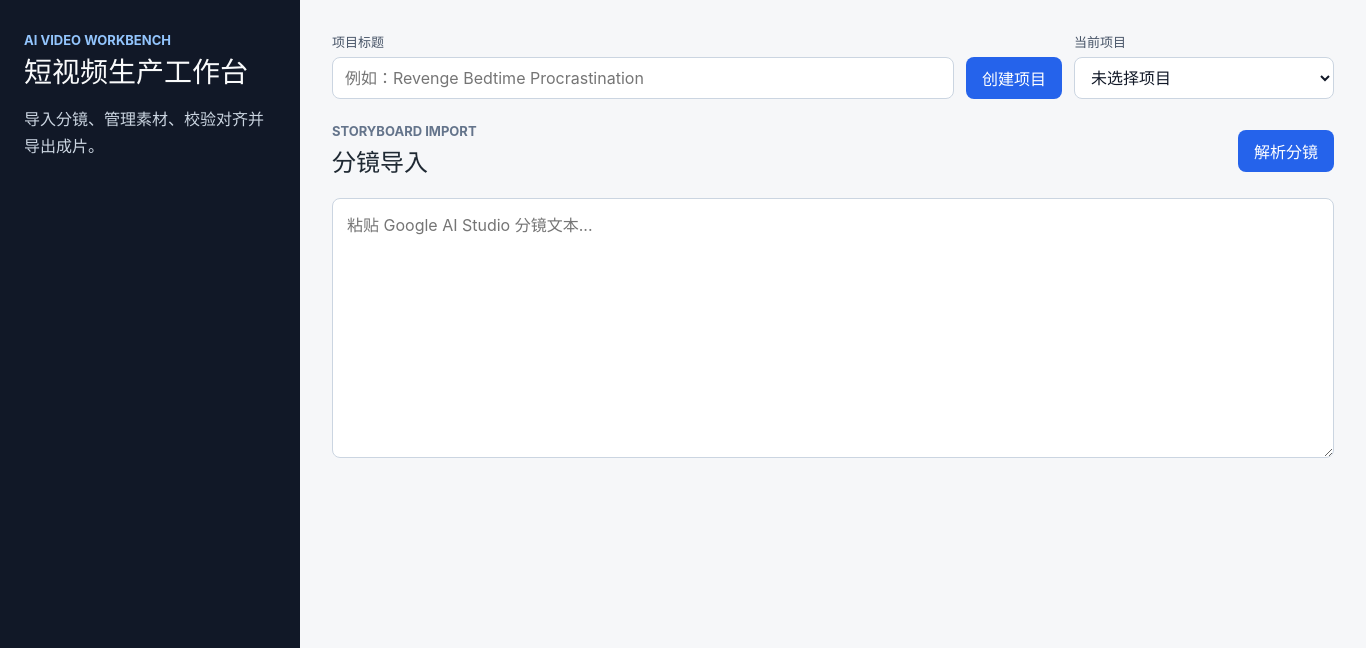
Scenario: VideoWorkbench › shows project assets in the asset library
Select "Asset Project" in the dropdown labelled "当前项目" at [1204, 78], box [1074,57,1334,99]
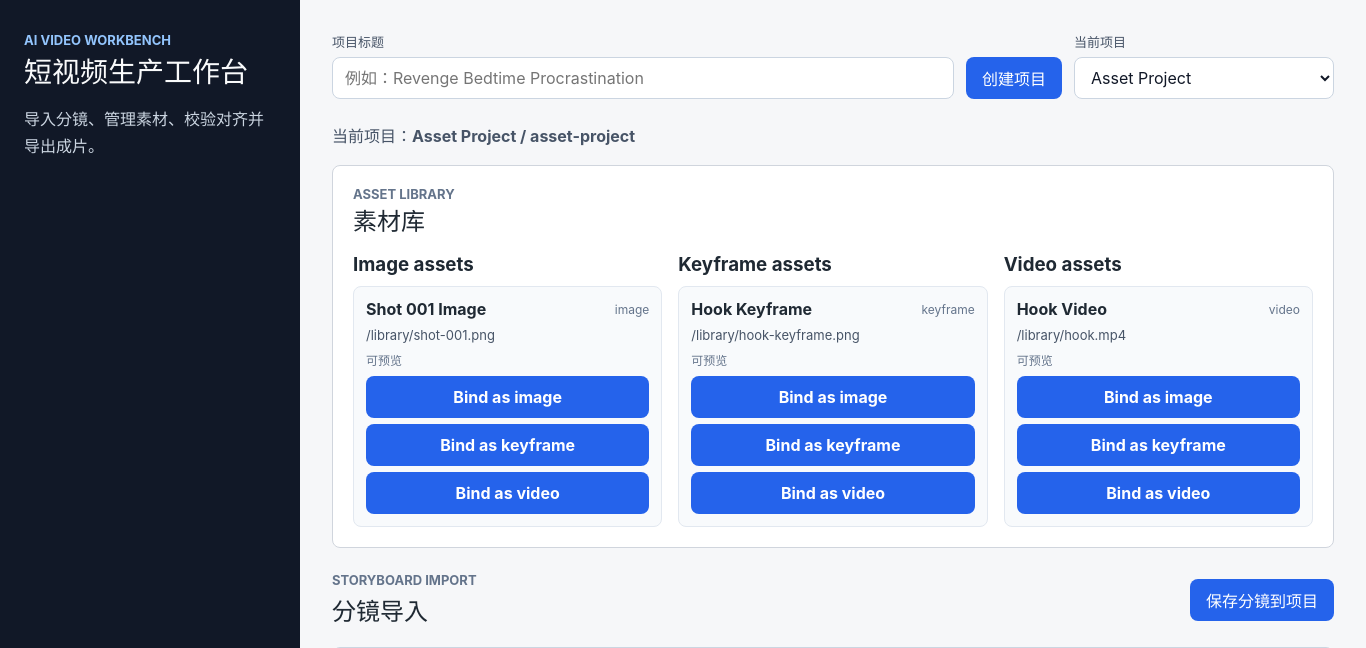
Expected: the text "Image assets" is shown, [353,253,474,276]
Expected: the text "Shot 001 Image" is shown, [366,299,486,319]
Expected: the text "/library/shot-001.png" is shown, [366,327,495,343]
